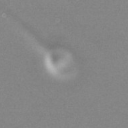normal: (1, 2, 48, 52)
